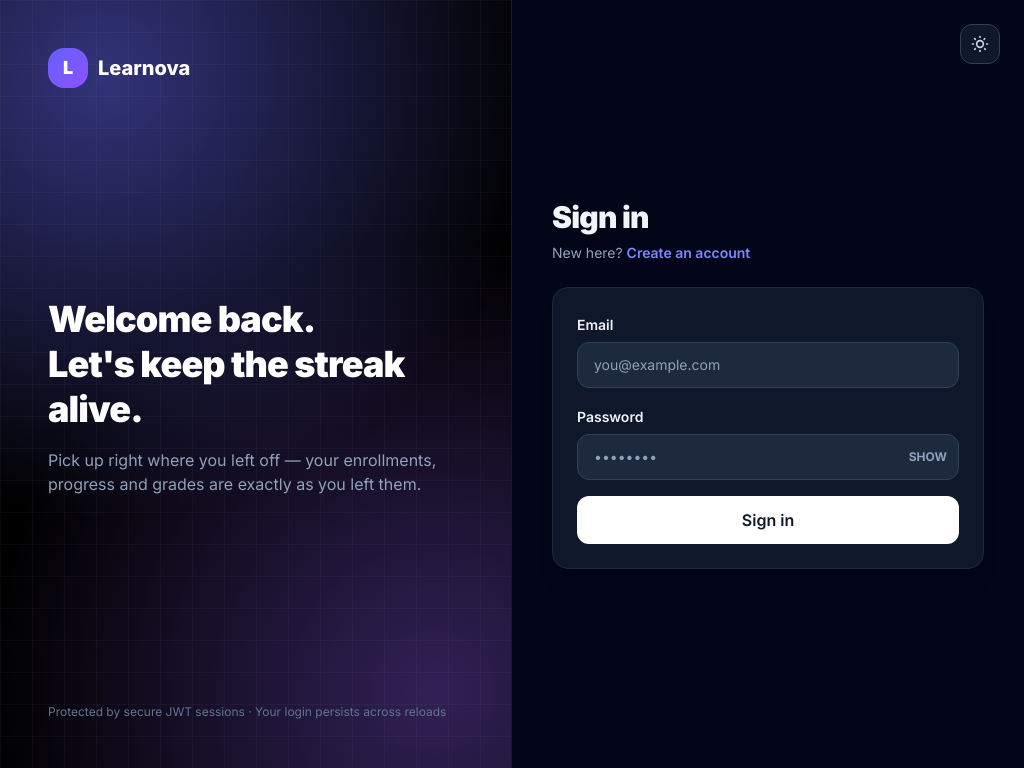
Test case: <Login /> › shows the server error when sign-in fails
In the field with placeholder "you@example.com": (768, 365) [577,342,959,388], type "demo@learnova.app"
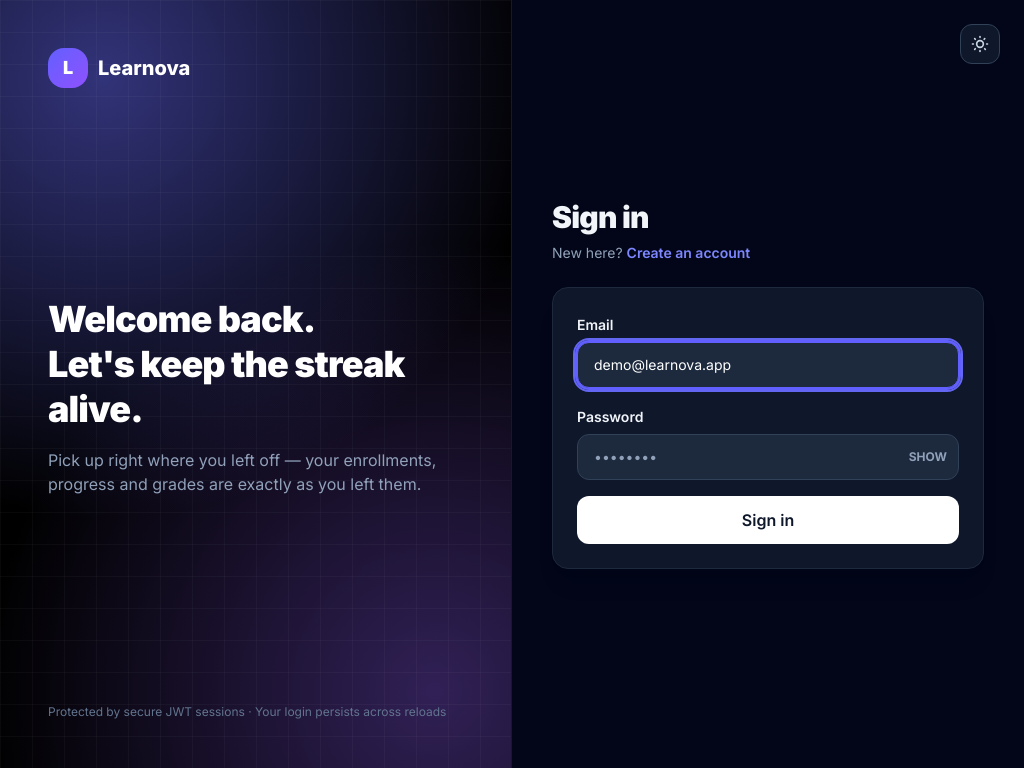
In the password field with placeholder "••••••••": (768, 457) [577,434,959,480], type "wrong"
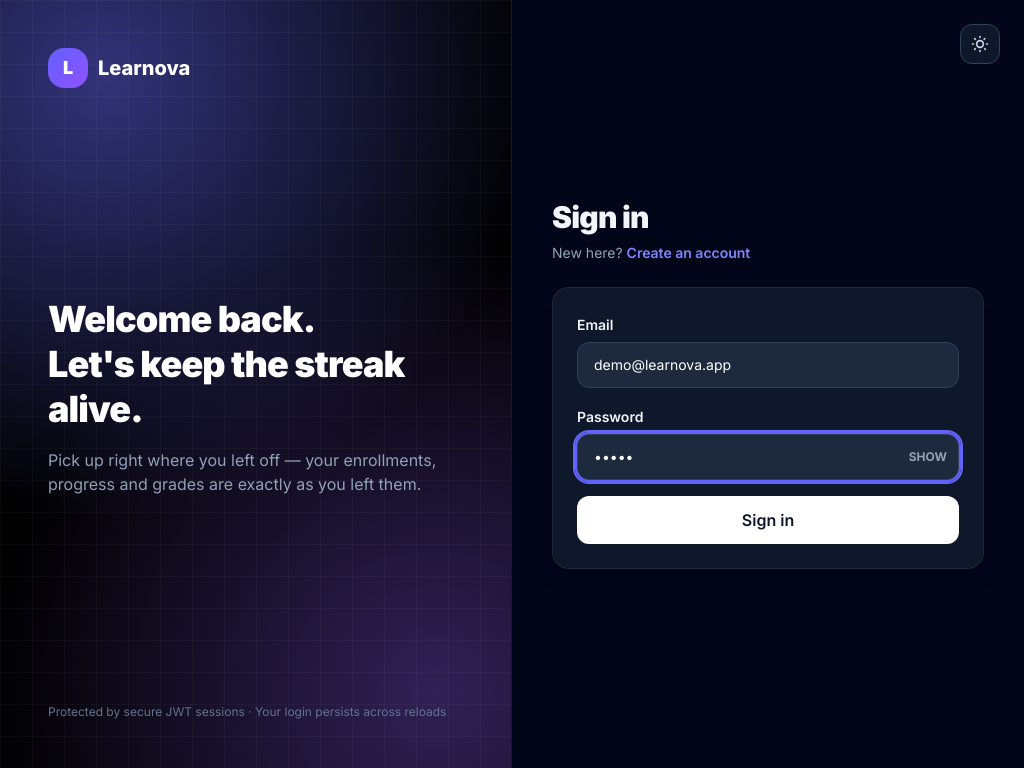
Click the button "Sign in": (768, 520) [577,496,959,544]
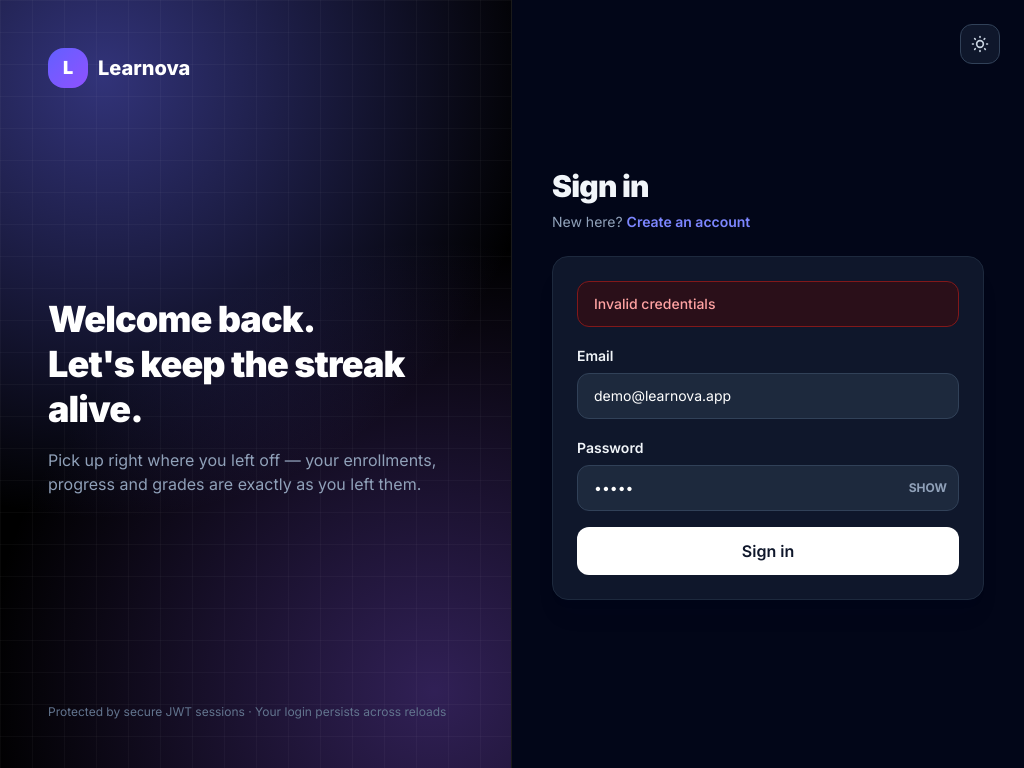
Result: the text "Invalid credentials" is shown at [577,281,959,327]
